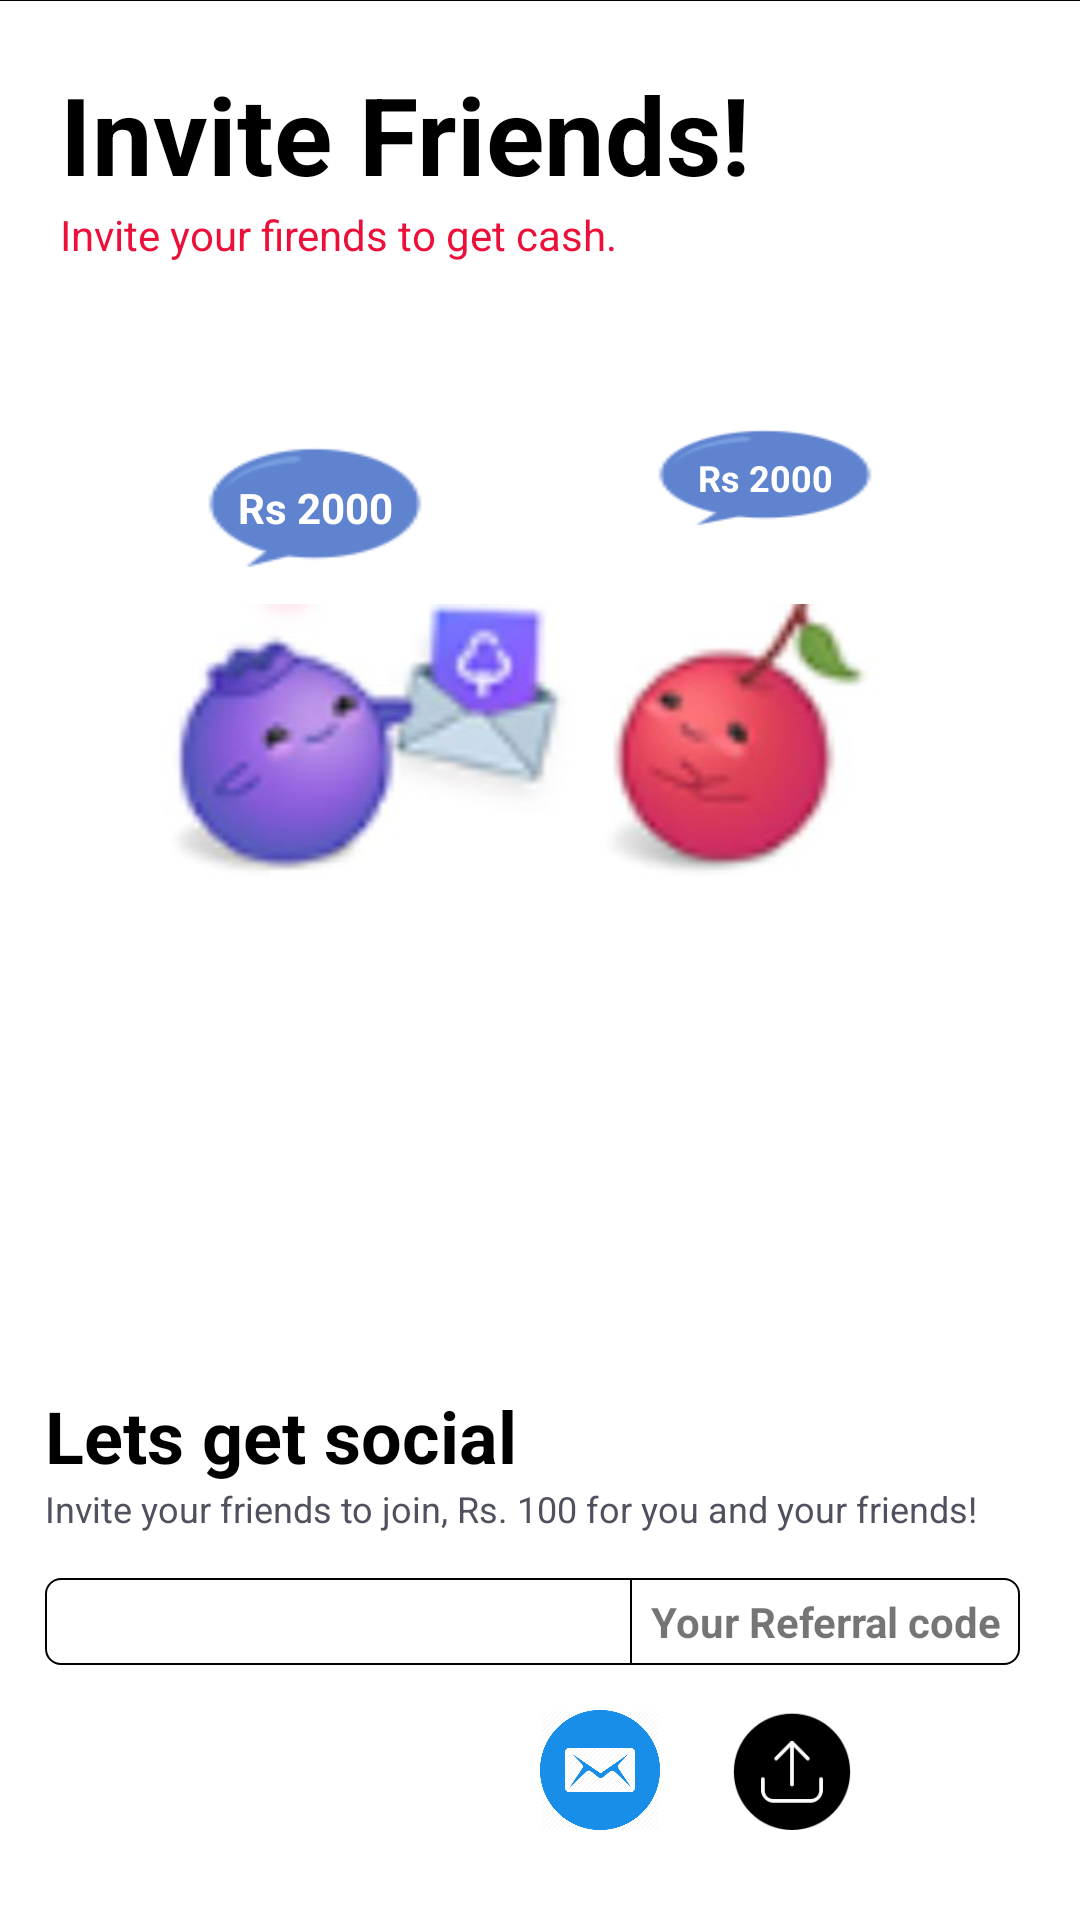

Where icons sit on this 1080x1920 app screen, as (x1, y1, x2, y2):
message: (540, 1710, 660, 1830)
uploadicon: (733, 1713, 851, 1830)
